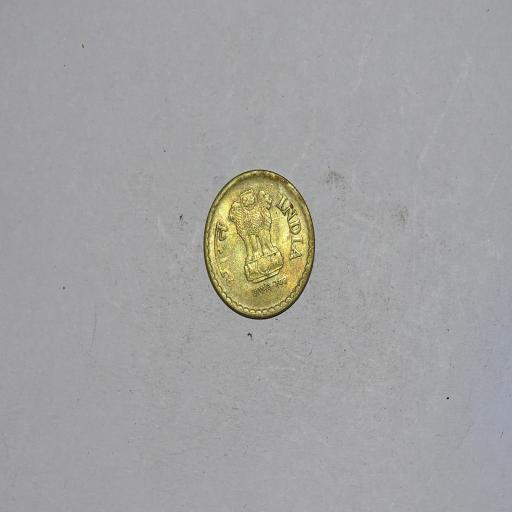rupee5: (198, 167, 318, 326)
